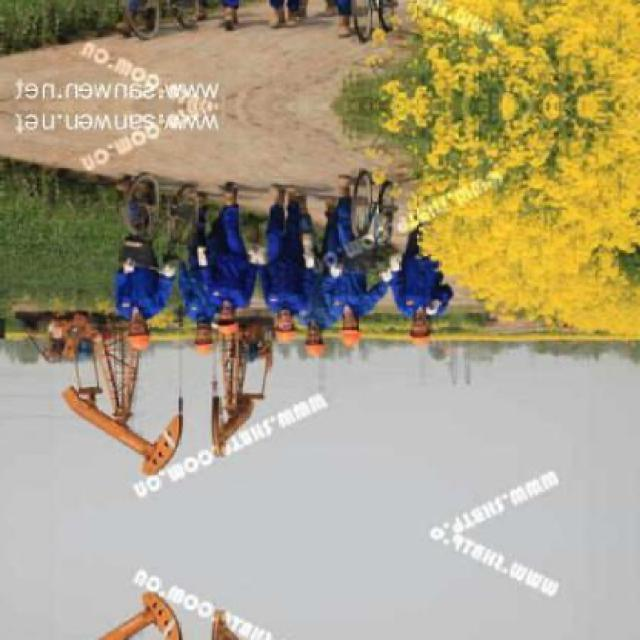con casco: (397, 295, 457, 352), (114, 298, 163, 362), (284, 303, 334, 356), (265, 288, 305, 352), (328, 299, 368, 356), (188, 322, 232, 372), (220, 301, 251, 348)
